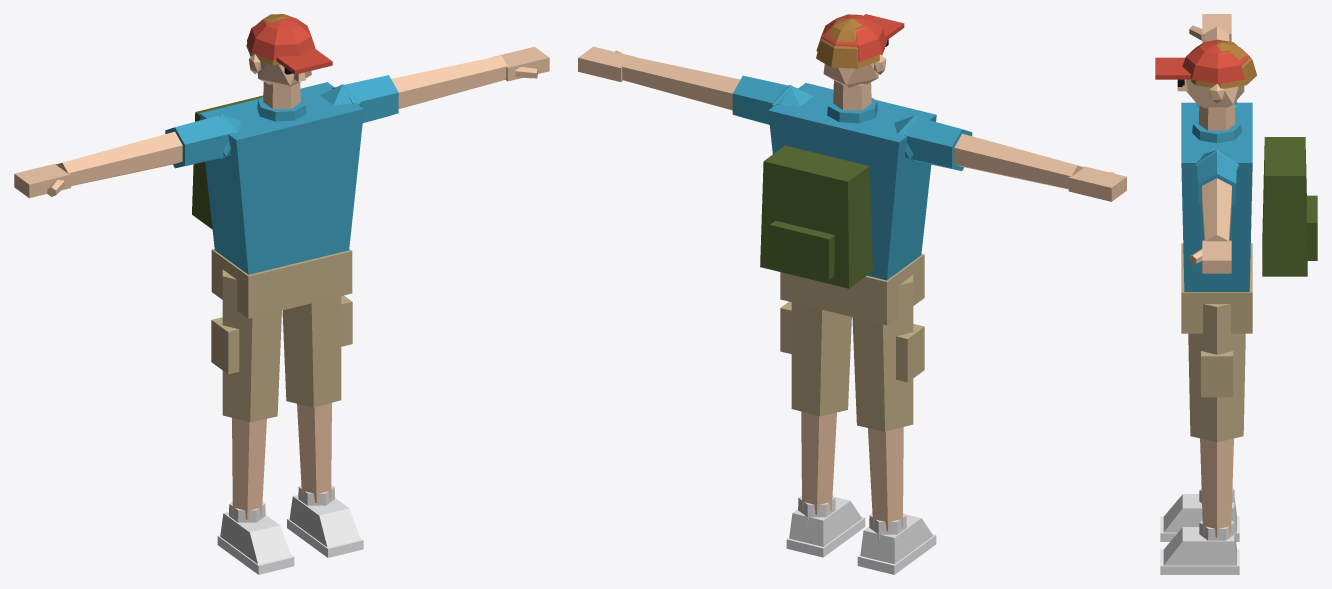
The model's file is Civ_Tourist.glb.
3 views of the same model, side by side, from view 1: azimuth 30°, elevation 25°; view 2: azimuth 150°, elevation 25°; view 3: azimuth 270°, elevation 25° (orthographic). The views are drawn at different scales.
Visible parts, largest first — view 1: Civ_Tourist; view 2: Civ_Tourist; view 3: Civ_Tourist.
Boxes of the visible parts, x1,y1,x2,y2 form: Civ_Tourist: [14, 14, 549, 574]; Civ_Tourist: [578, 14, 1126, 574]; Civ_Tourist: [1155, 14, 1317, 574].
Size of the model in its own units: 1.8 by 1.73 by 0.5.
